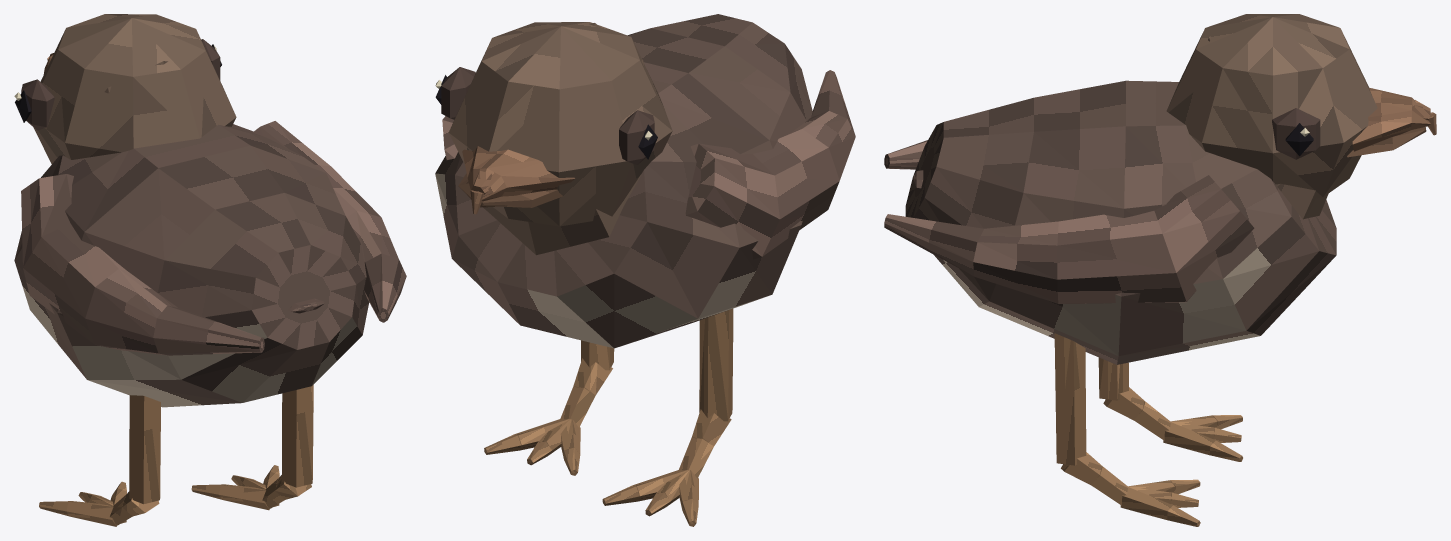
Rendered from mon_raven_chick.glb.
3 renders of one model, left to right at view 1: azimuth 30°, elevation 25°; view 2: azimuth 150°, elevation 25°; view 3: azimuth 270°, elevation 25°, orthographic. The views are drawn at different scales.
Visible parts, largest first — view 1: closed_body; view 2: closed_body; view 3: closed_body.
Part boxes in pixels (box(x1,y1,x2,y2)): closed_body: box(14, 14, 406, 526); closed_body: box(435, 14, 855, 526); closed_body: box(884, 14, 1436, 526).
Size of the model in its own units: 0.066 by 0.0915 by 0.0998.
Materials: 1 (1 with a texture image).
